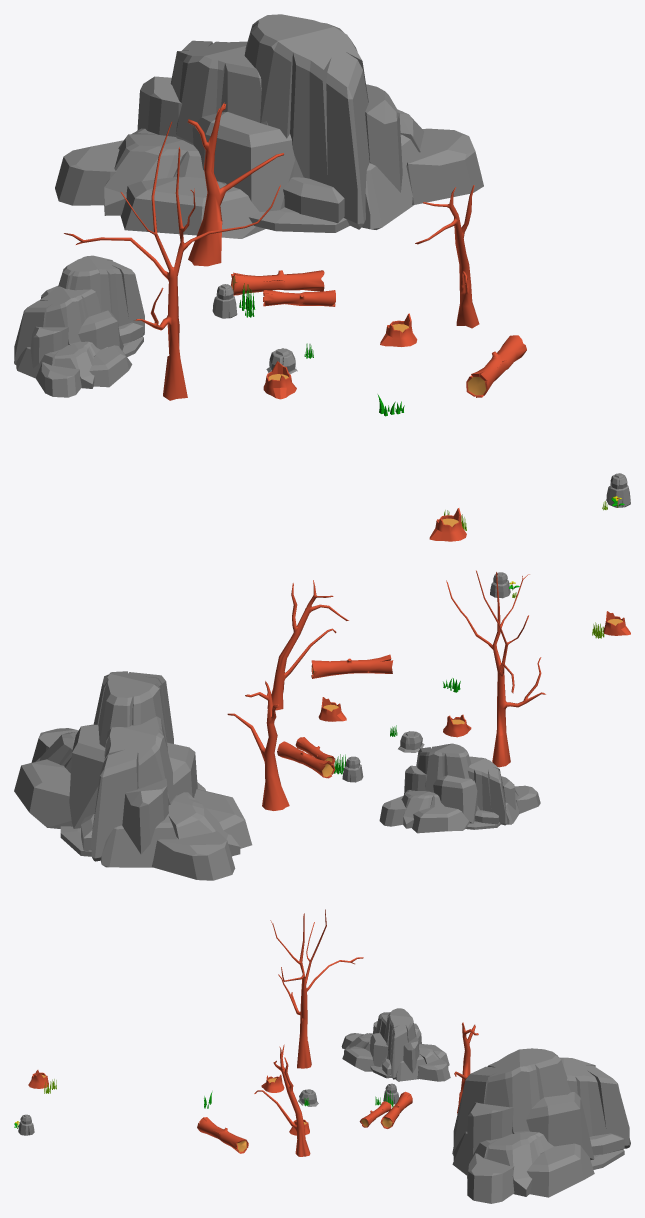
The model's file is Background 5.fbx.
The picture shows the model from 3 angles, top to bottom: view 1: azimuth 30°, elevation 25°; view 2: azimuth 150°, elevation 25°; view 3: azimuth 270°, elevation 25°; orthographic projection. The views are drawn at different scales.
Parts seen in each view (by area): view 1: stone1, stone, Tree11, Tree9, Tree8, Tree13, Tree10, Tree12, Tree3, Tree2, Tree1; view 2: stone1, stone, Tree11, Tree9, Tree8, Tree10, Tree13, Tree1, Tree2, Tree3, stone4, stone3; view 3: stone1, stone, Tree11, Tree8, Tree10, Tree9, Tree13.
Boxes of the visible parts, box(x1,y1,x2,y2) form: stone1: box(55, 14, 483, 238); stone: box(14, 255, 144, 397); Tree11: box(64, 121, 280, 400); Tree9: box(187, 102, 283, 266); Tree8: box(415, 185, 479, 328); Tree13: box(231, 270, 324, 295); Tree10: box(466, 335, 526, 397); Tree12: box(263, 290, 335, 306); Tree3: box(263, 361, 296, 399); Tree2: box(429, 508, 466, 541); Tree1: box(380, 313, 417, 346); stone1: box(14, 671, 252, 880); stone: box(379, 743, 540, 833); Tree11: box(446, 570, 545, 767); Tree9: box(227, 681, 289, 810); Tree8: box(267, 580, 348, 710); Tree10: box(311, 654, 393, 678); Tree13: box(277, 741, 335, 778); Tree1: box(318, 697, 346, 721); Tree2: box(602, 611, 630, 635); Tree3: box(443, 714, 471, 737); stone4: box(398, 731, 424, 752); stone3: box(342, 756, 363, 782); stone1: box(452, 1048, 630, 1203); stone: box(341, 1008, 450, 1081); Tree11: box(270, 909, 363, 1068); Tree8: box(254, 1044, 310, 1156); Tree10: box(197, 1117, 248, 1153); Tree9: box(454, 1022, 478, 1113); Tree13: box(380, 1091, 412, 1128).
Size of what is drawn, in the model's own units: 3265 by 1521 by 5130.
Materials: 2 (2 with a texture image).
